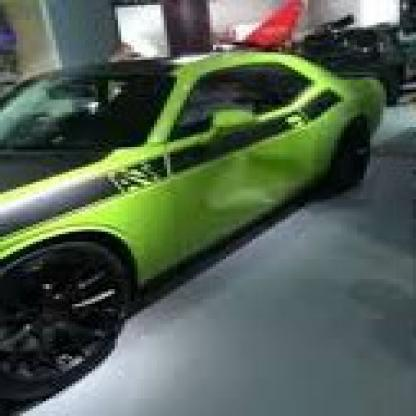dent: (220, 150, 308, 204)
